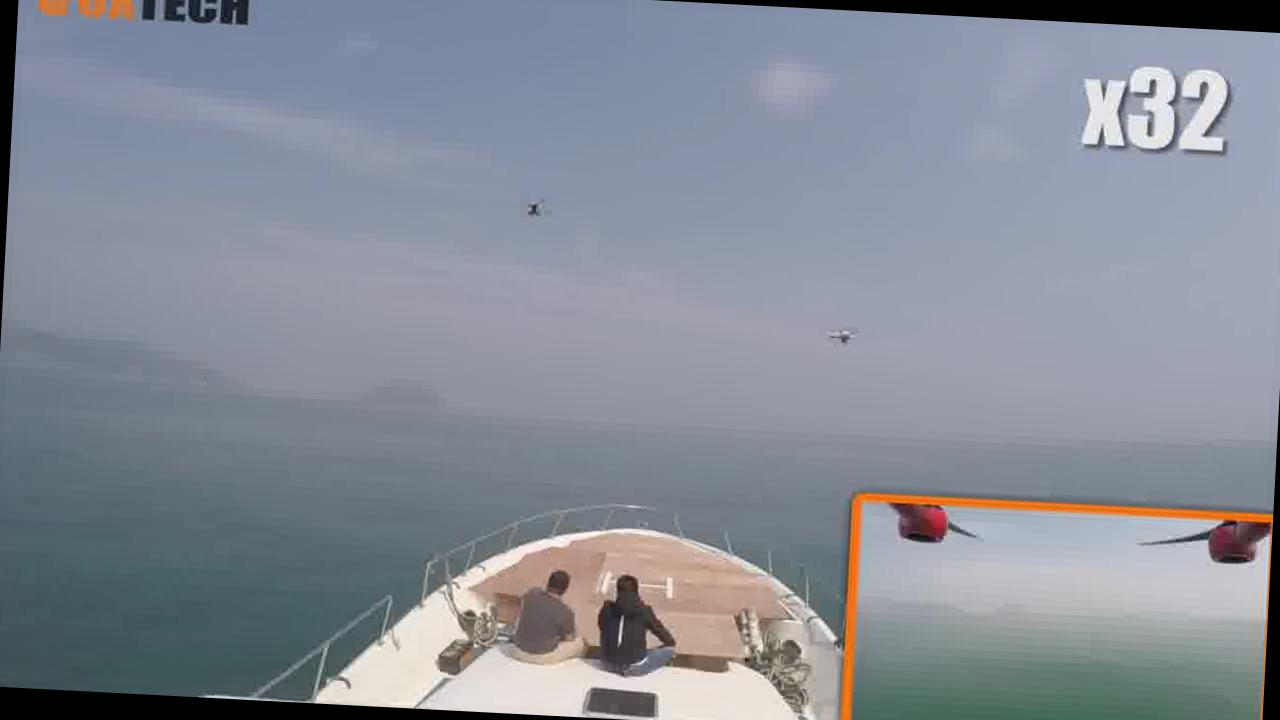drone: (498, 176, 564, 236)
